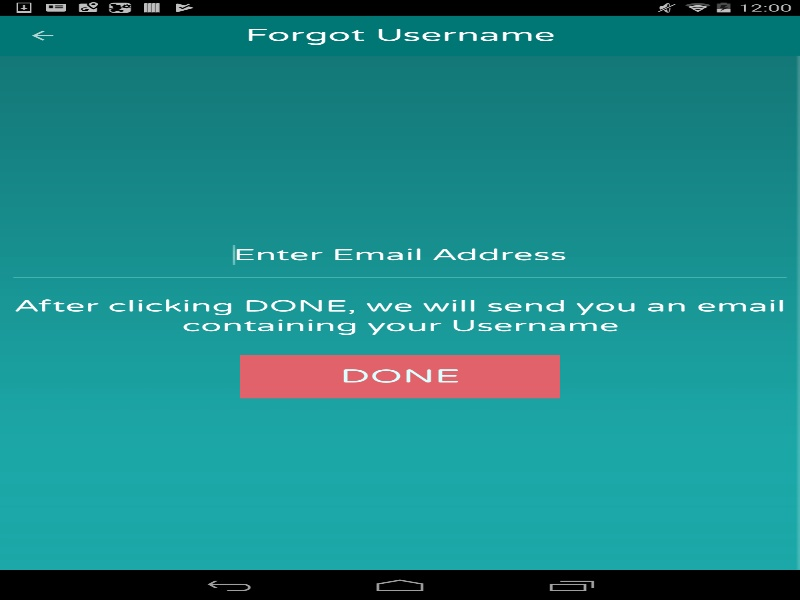Button: (240, 354, 560, 398), (0, 18, 74, 53)
Input: (13, 233, 786, 277)
